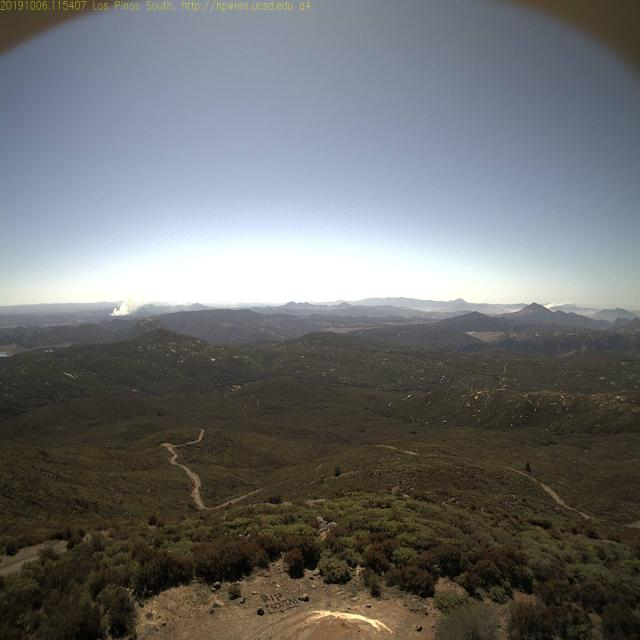smoke: (540, 295, 576, 317)
